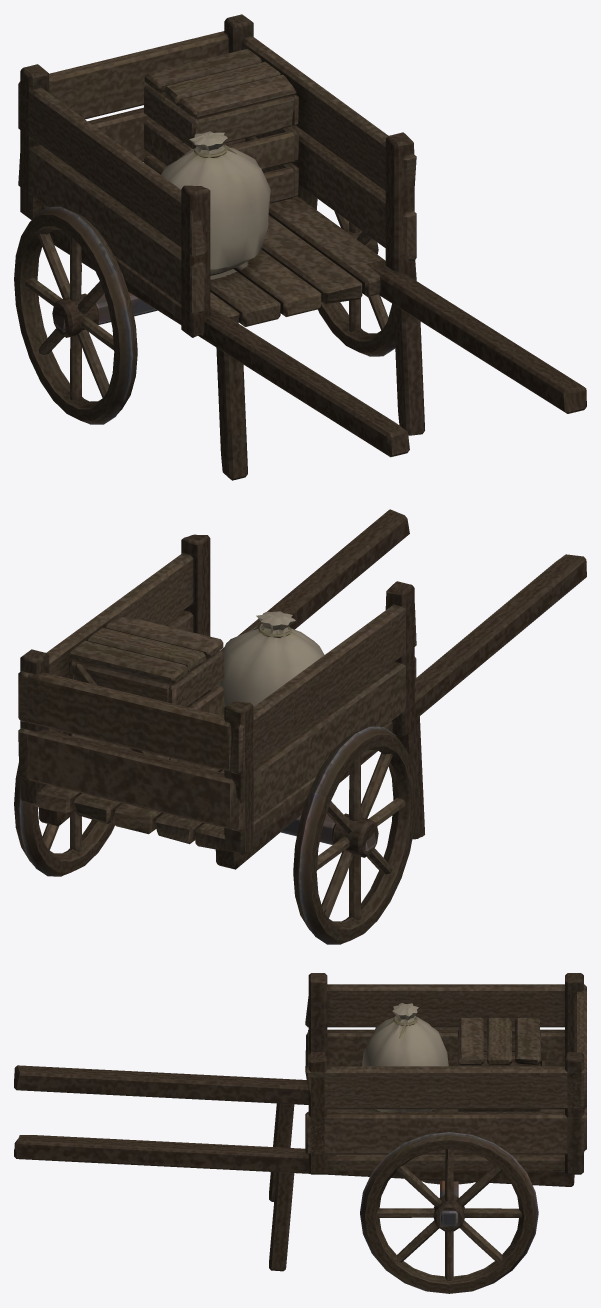
The model's file is cart.glb.
3 views of the same model, one above another, from view 1: azimuth 30°, elevation 25°; view 2: azimuth 150°, elevation 25°; view 3: azimuth 270°, elevation 25° (orthographic). The views are drawn at different scales.
Parts seen in each view (by area): view 1: cart; view 2: cart; view 3: cart.
Part boxes in pixels (box(x1,y1,x2,y2)): cart: box(14, 14, 586, 480); cart: box(14, 509, 586, 944); cart: box(14, 973, 586, 1293).
Bounding box in the file's own units: 0.92 × 0.79 × 1.83.
Materials: 1 (1 with a texture image).
